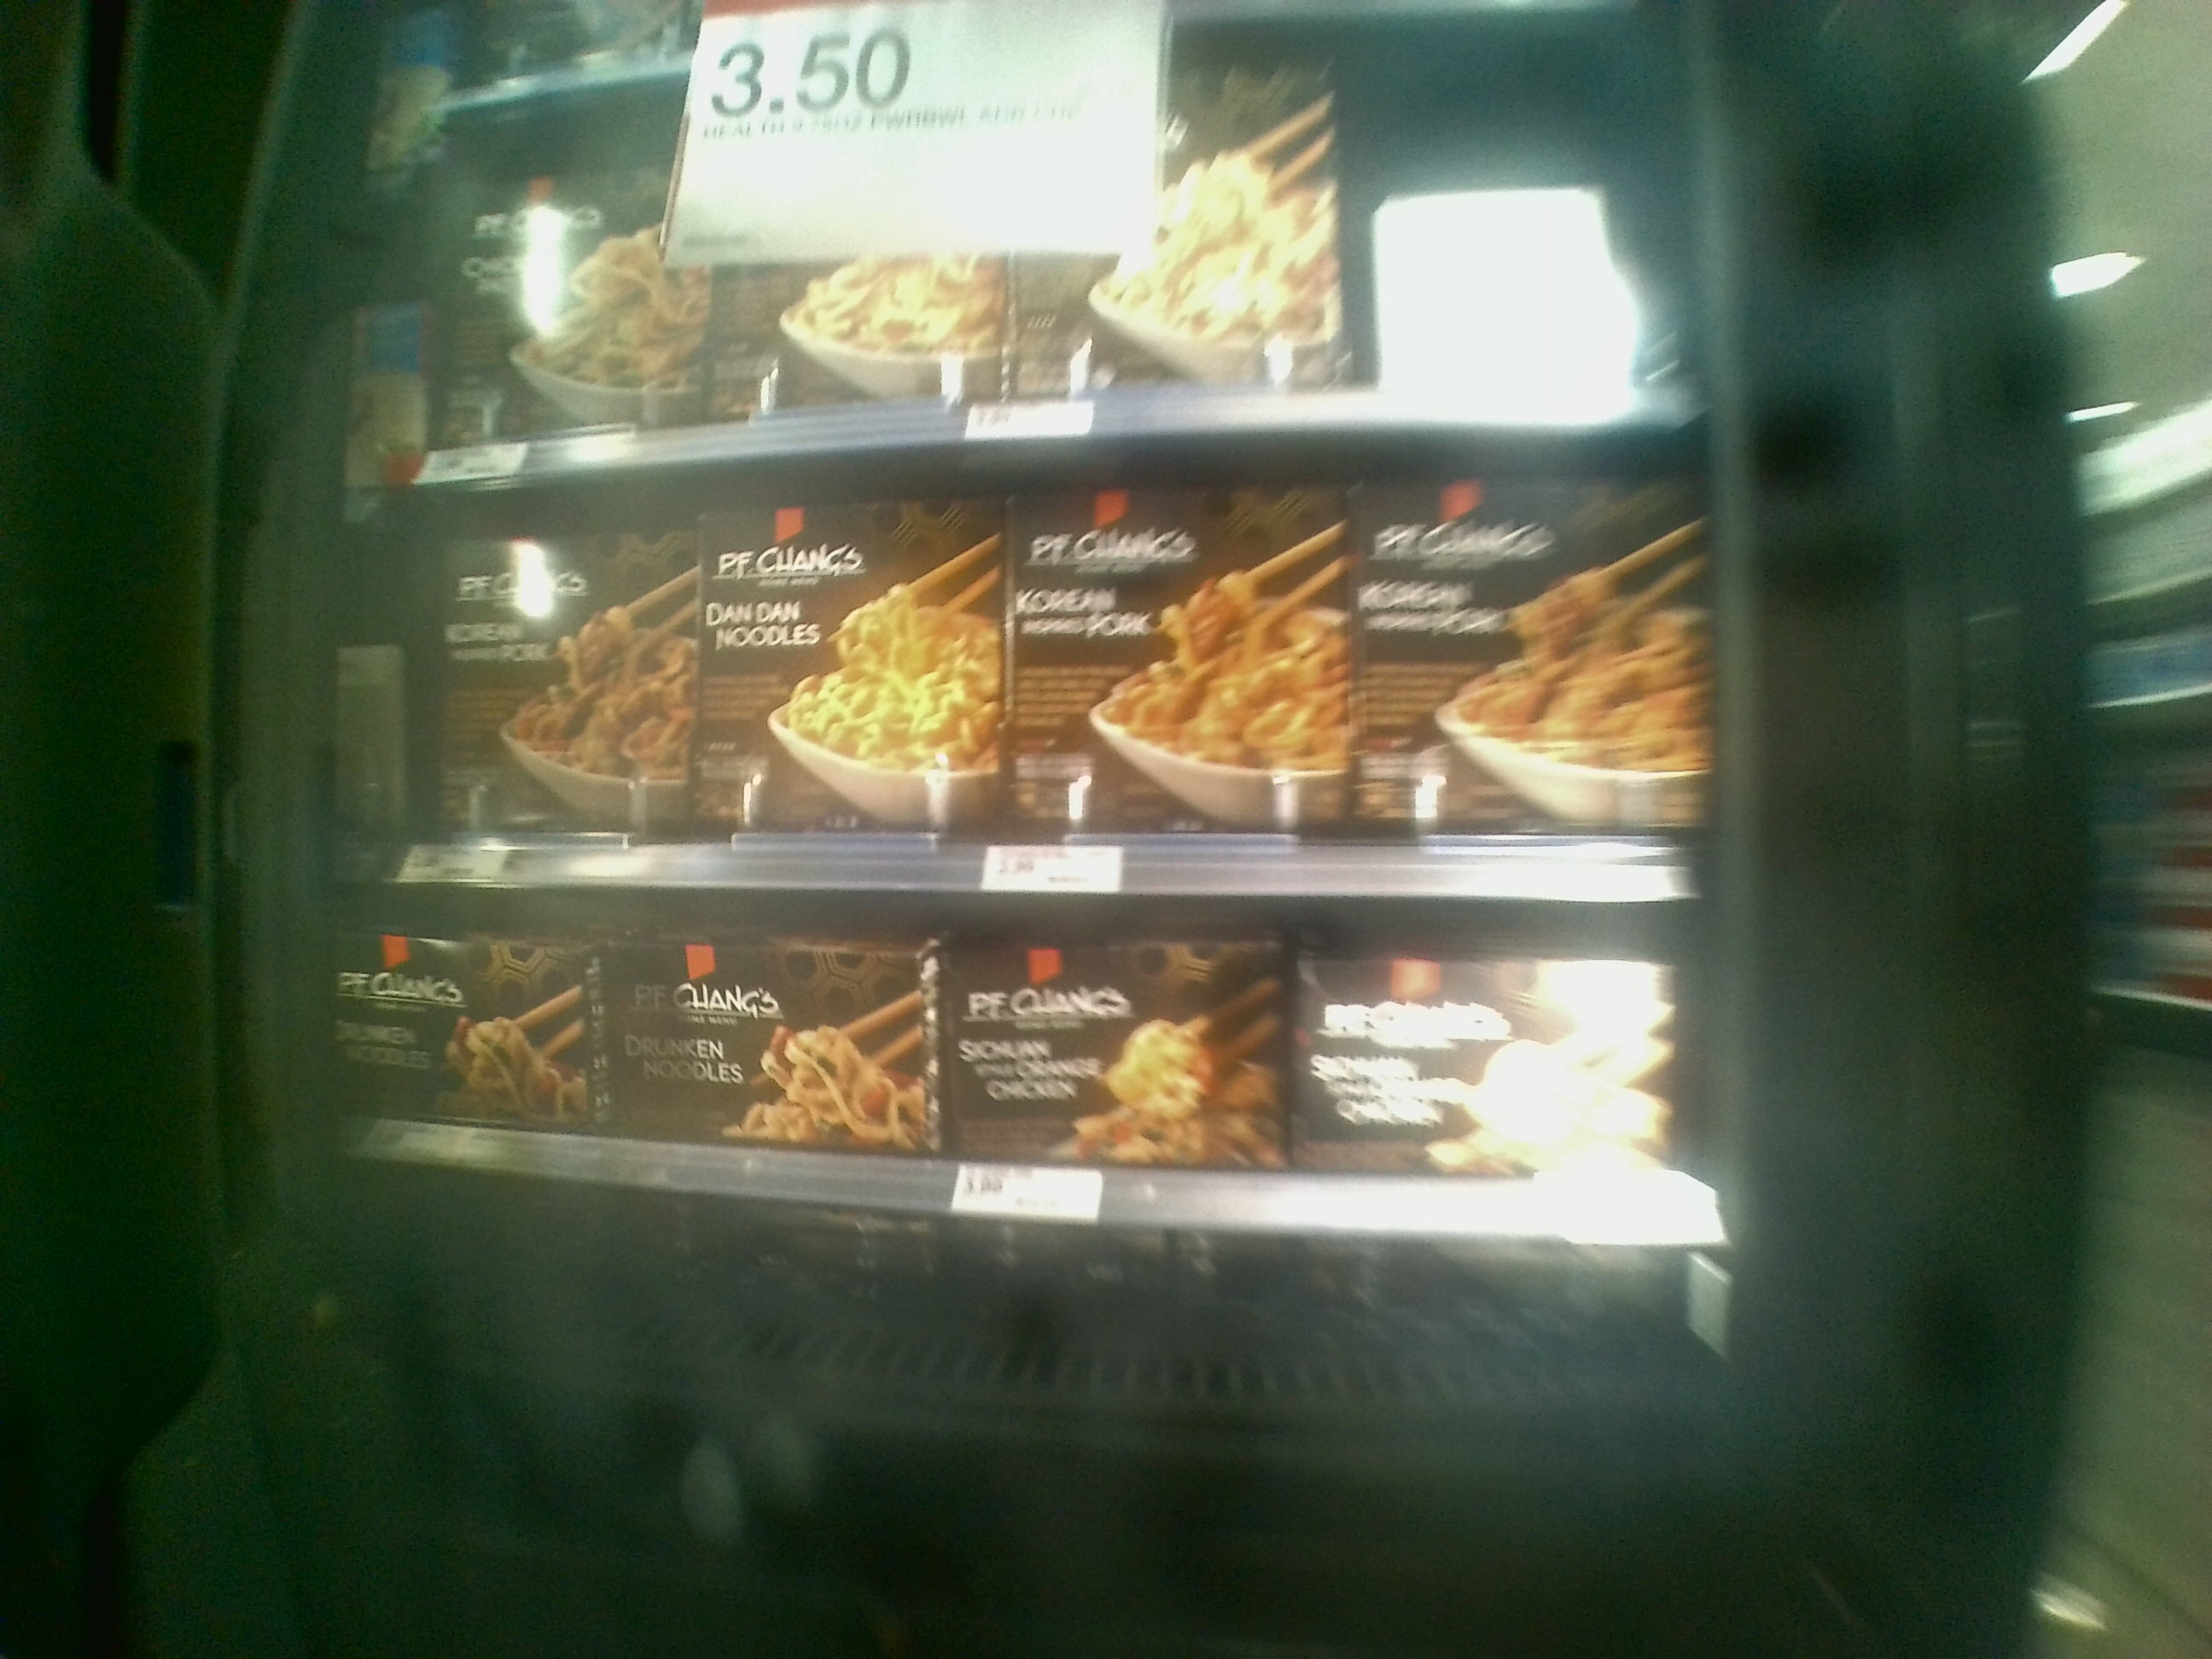shelf: (327, 890, 1714, 1502), (327, 437, 1709, 892)
